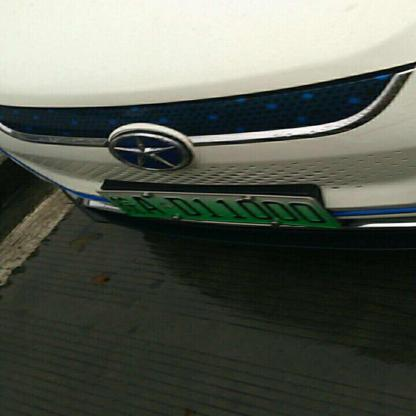lp: (97, 191, 341, 228)
